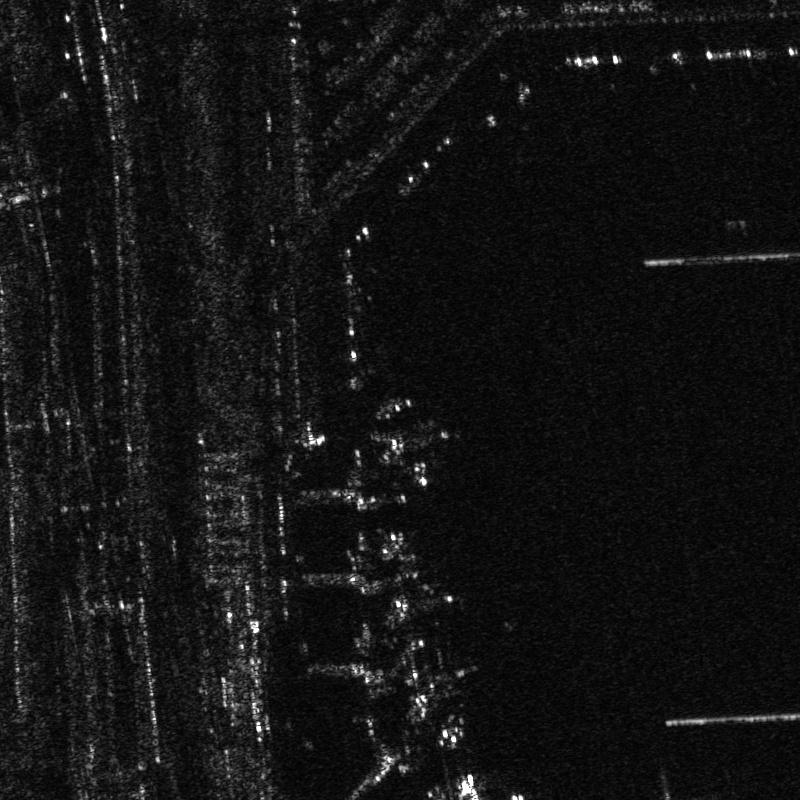A220: (341, 391, 461, 499), (357, 561, 464, 641)
